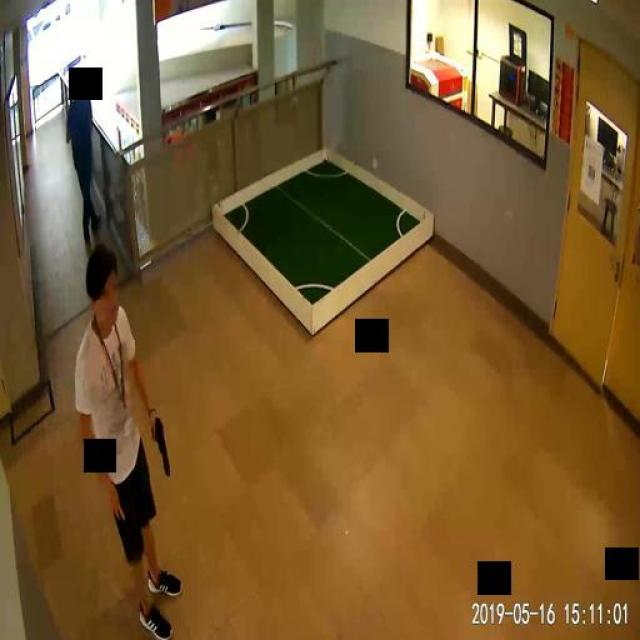gun: (150, 414, 169, 475)
